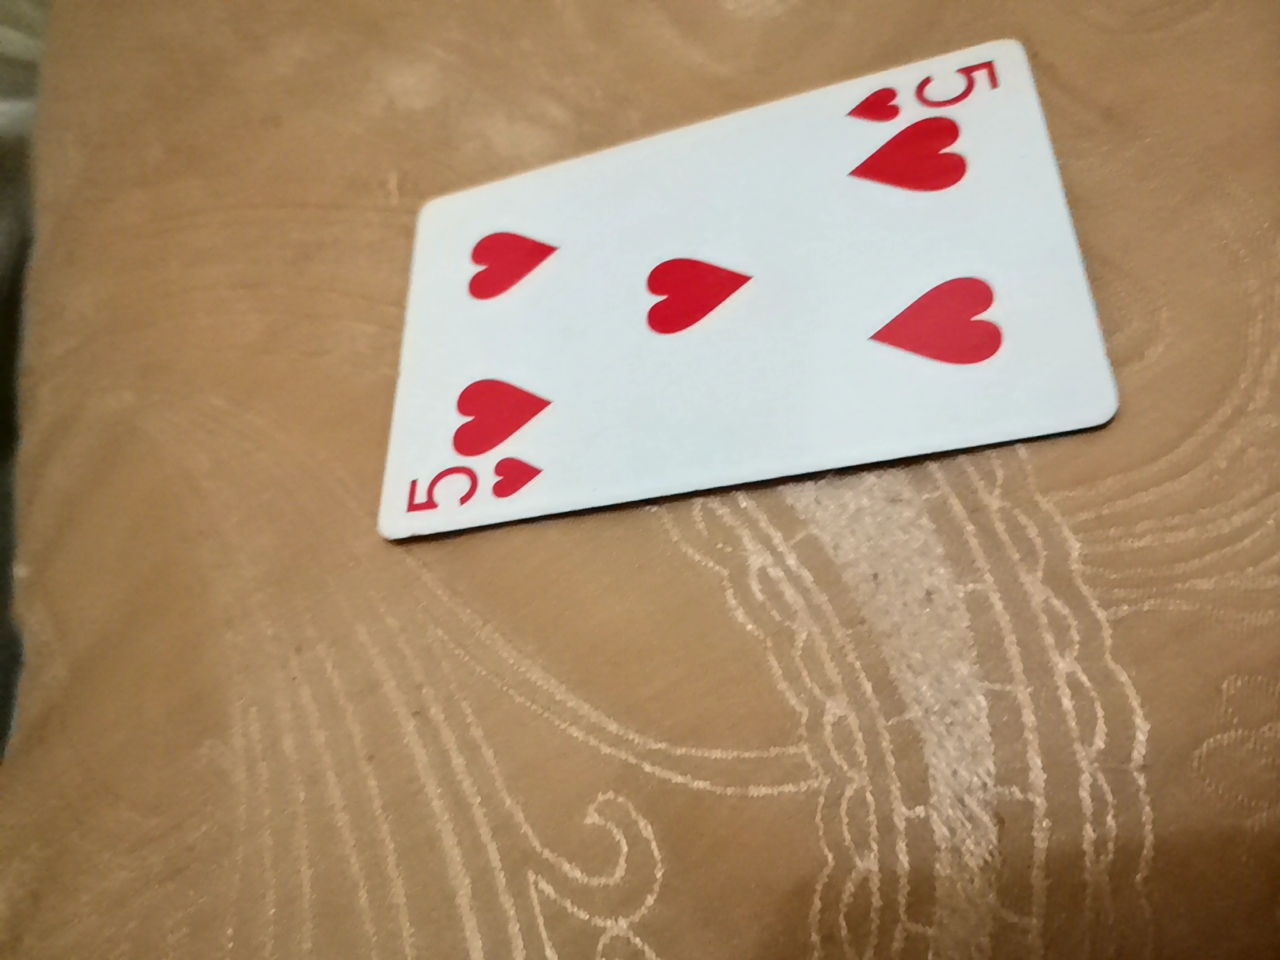hx 5: (376, 49, 1120, 550)
